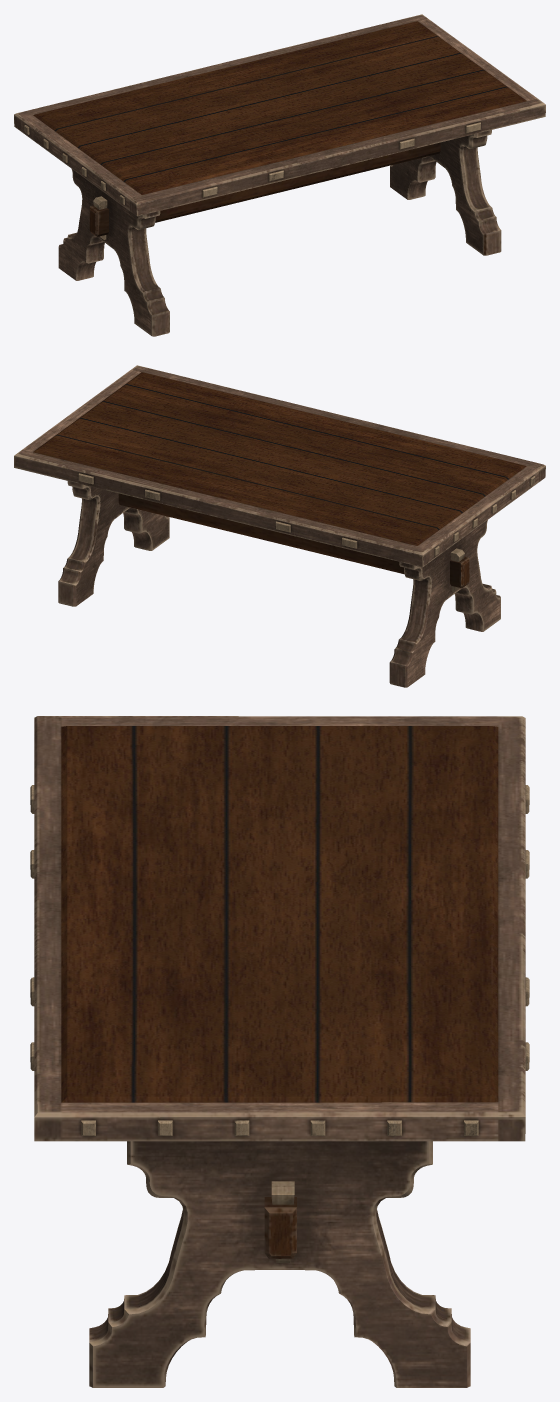
The model's file is woodentable.glb.
The picture shows the model from 3 angles, top to bottom: view 1: azimuth 30°, elevation 25°; view 2: azimuth 150°, elevation 25°; view 3: azimuth 270°, elevation 25°; orthographic projection. The views are drawn at different scales.
Visible parts, largest first — view 1: Table; view 2: Table; view 3: Table.
Part boxes in pixels (x1,y1,x2,y2): Table: (14,14,545,336); Table: (14,365,545,687); Table: (30,716,529,1387).
Bounding box in the file's own units: 249 × 88.23 × 130.
1 material, 1 textured.
